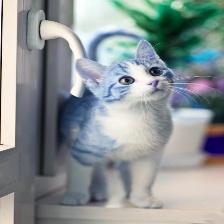kedo: (64, 40, 174, 208)
